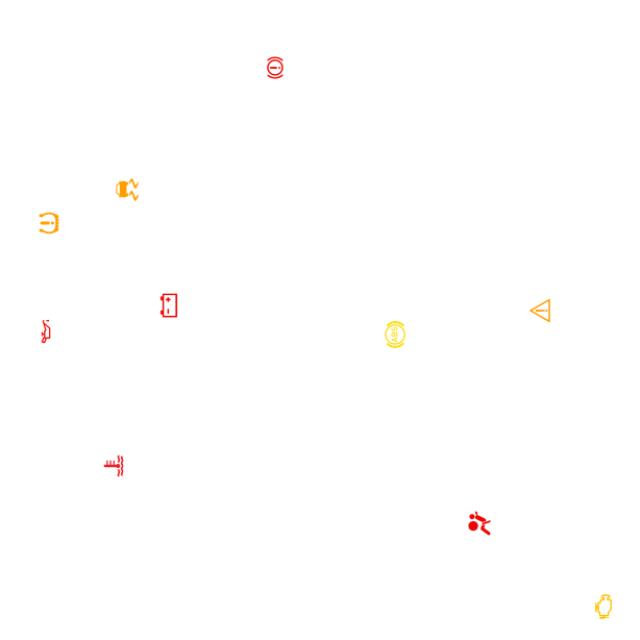Anti Lock Braking System: (380, 320, 410, 349)
Braking System Issue: (260, 54, 290, 82)
Charging System Issue: (154, 291, 183, 320)
Check Engine: (589, 592, 618, 621)
Electronic Stability Problem -ESP-: (112, 175, 142, 204)
Engine Overheating Warning Light: (99, 452, 128, 481)
Low Engine Oil Warning Light: (31, 317, 60, 346)
Low Tire Pressure Warning Light: (34, 208, 64, 238)
Master warning light: (526, 296, 554, 325)
SRS-Airbag: (465, 509, 494, 538)
